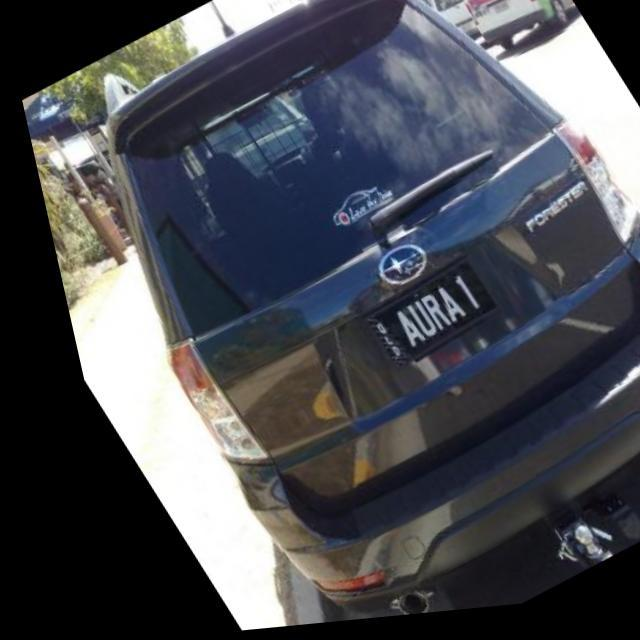license_plate: (338, 264, 492, 372), (490, 11, 508, 24)
